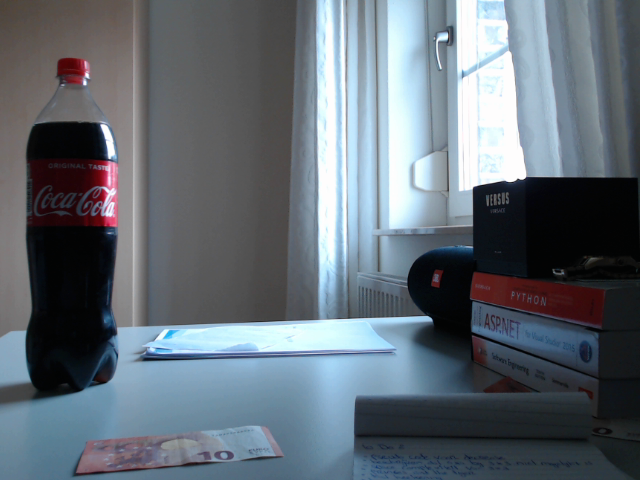bottle: (26, 57, 119, 393)
